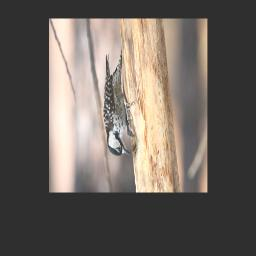Woodpecker: (104, 50, 135, 157)
